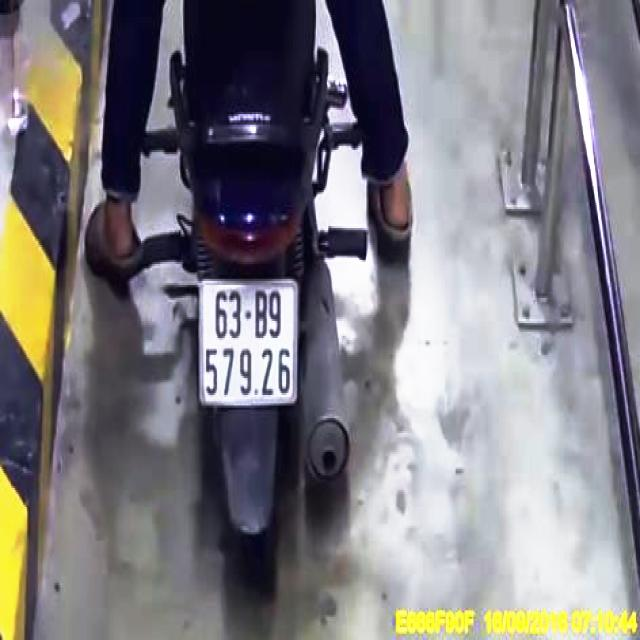license_plate: (204, 279, 301, 400)
